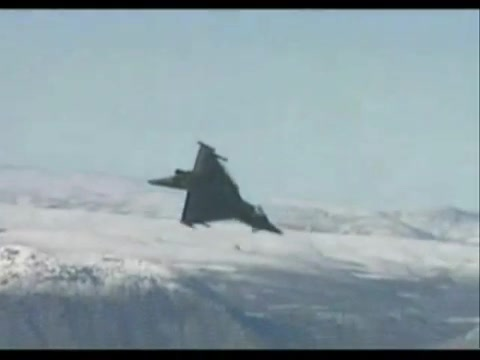aeroplane: (148, 142, 283, 236)
